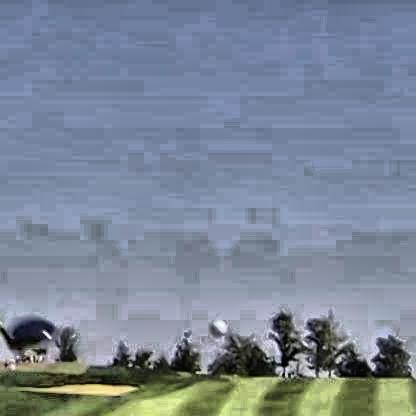golfball: (207, 315, 224, 335)
